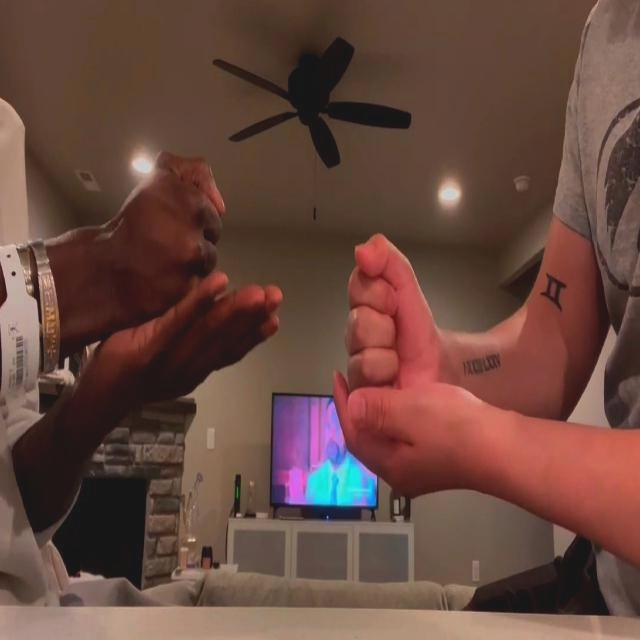Rock: (109, 148, 226, 322), (346, 232, 438, 394)
